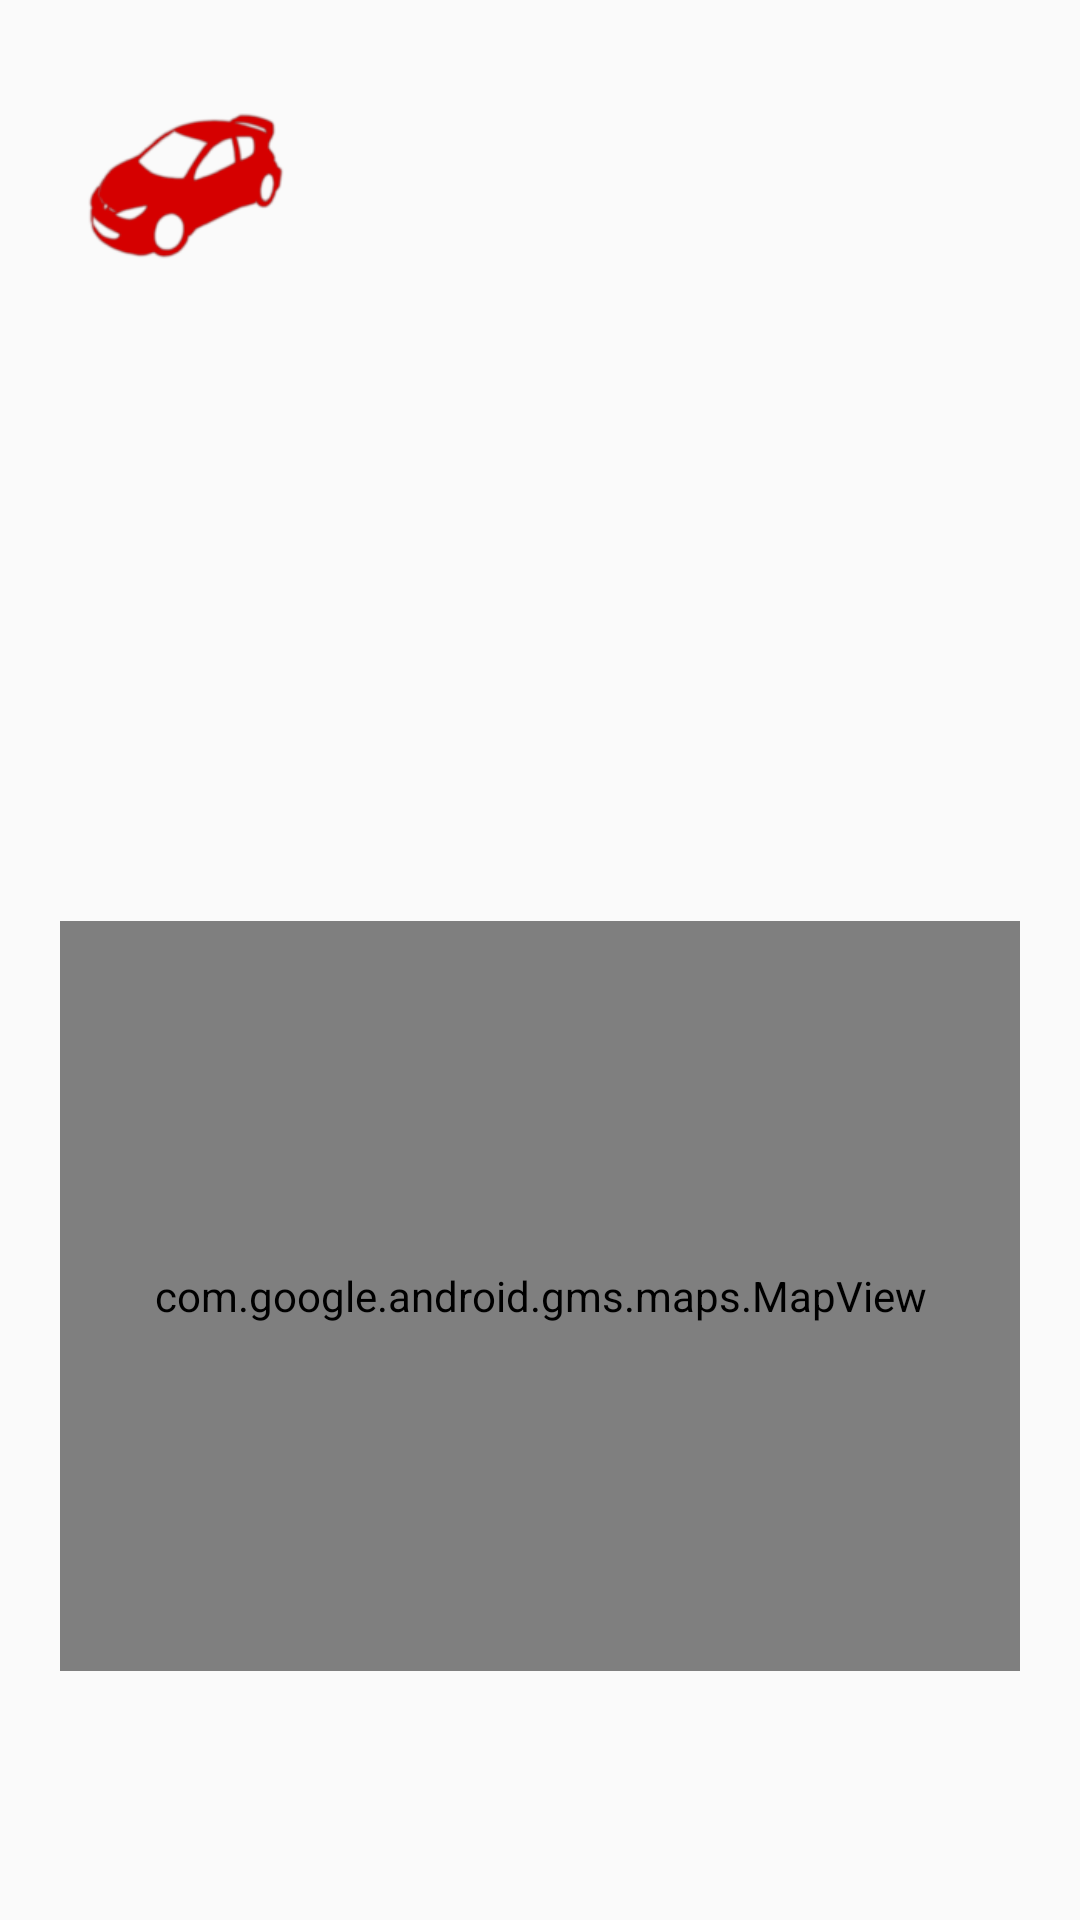

Named icons in this screenshot (1080px x 1920px) and their bounding boxes, (x1, y1, x2, y2):
car: (89, 114, 283, 258)
